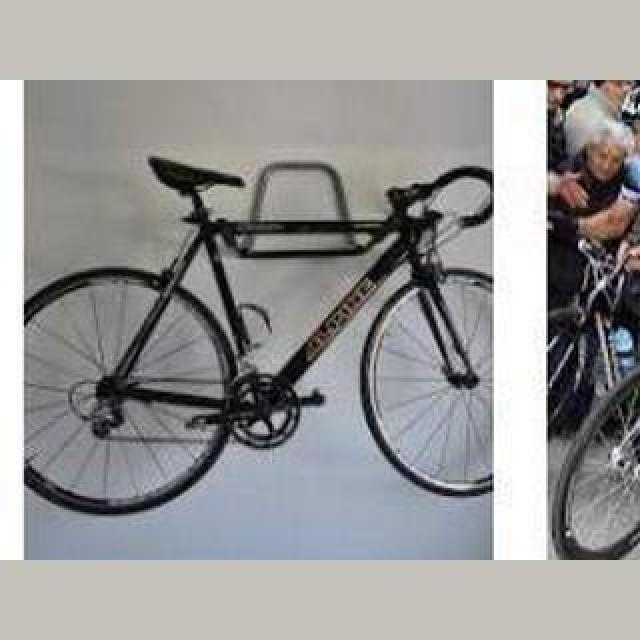Person: (24, 149, 496, 517), (546, 240, 640, 560)
